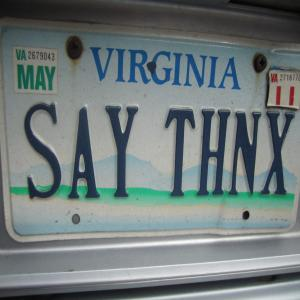Vehicle-registration-plate: (1, 1, 300, 234)
